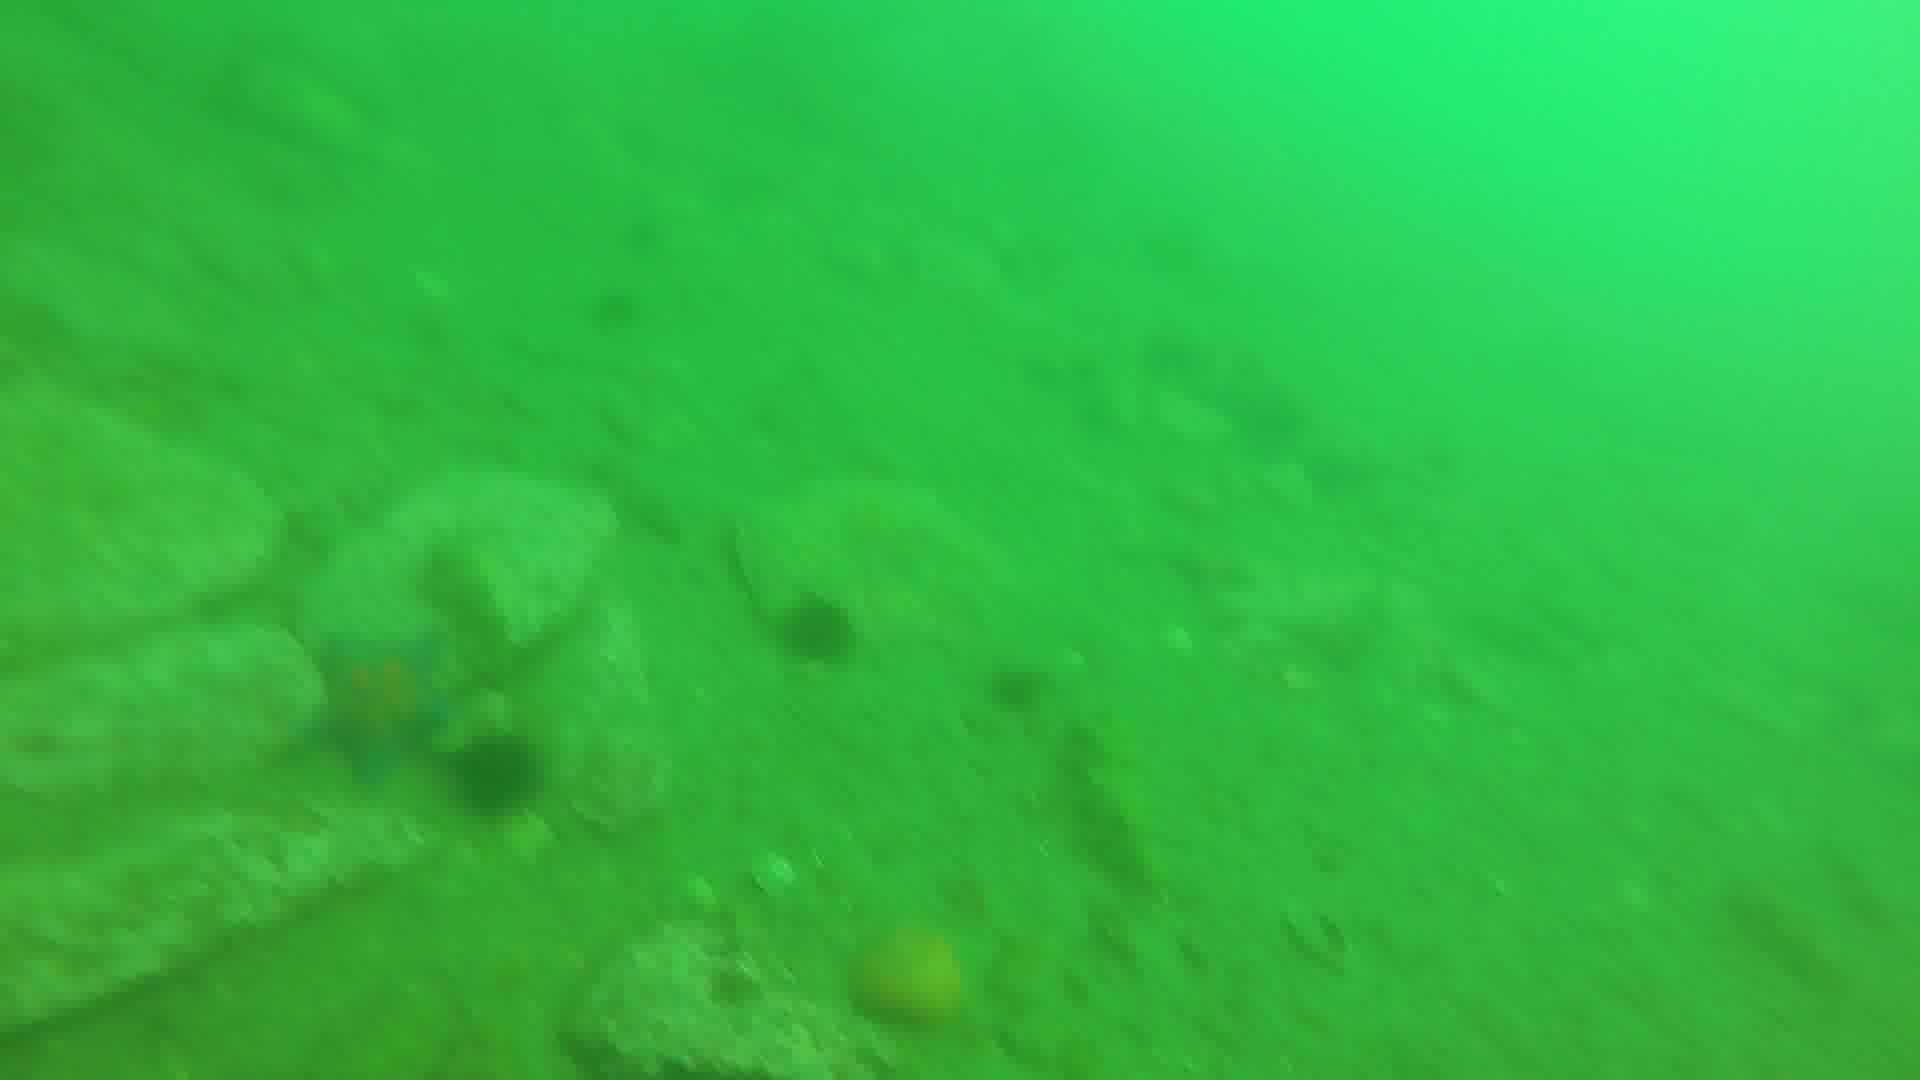echinus: (446, 729, 545, 822), (773, 591, 861, 670), (982, 659, 1048, 717), (583, 282, 646, 338)
holothurian: (1060, 723, 1160, 895)
starfish: (305, 622, 459, 787)
